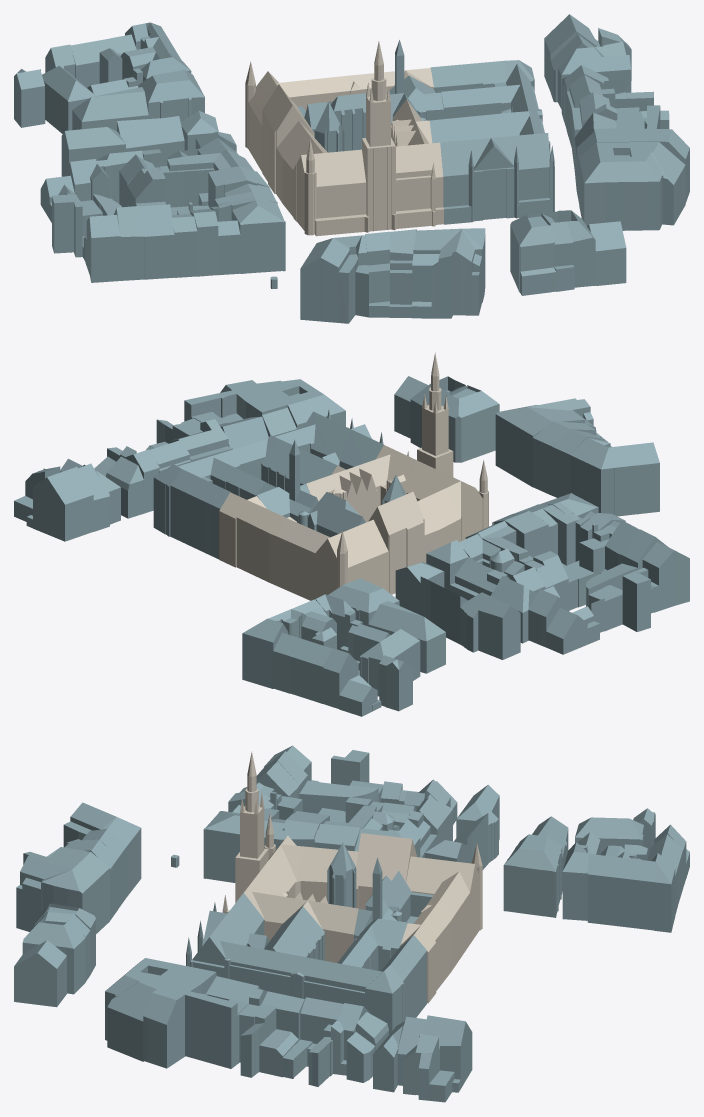
File: muenchner-rathaus-100m.glb
3 views of the same model, one above another, from view 1: azimuth 30°, elevation 25°; view 2: azimuth 150°, elevation 25°; view 3: azimuth 270°, elevation 25° (orthographic). The views are drawn at different scales.
Parts seen in each view (by area): view 1: primary_DEBY_LOD2_4957695, neighbor_DEBY_LOD2_4957703, neighbor_DEBY_LOD2_4957959, neighbor_DEBY_LOD2_4957694, neighbor_DEBY_LOD2_4957691, neighbor_DEBY_LOD2_4957698, neighbor_DEBY_LOD2_4956886, neighbor_DEBY_LOD2_4957654, neighbor_DEBY_LOD2_4956894, neighbor_DEBY_LOD2_4956909, neighbor_DEBY_LOD2_4956908, neighbor_DEBY_LOD2_4956881 (+41 smaller); view 2: primary_DEBY_LOD2_4957695, neighbor_DEBY_LOD2_4957703, neighbor_DEBY_LOD2_4957691, neighbor_DEBY_LOD2_4957694, neighbor_DEBY_LOD2_4957943, neighbor_DEBY_LOD2_4957698, neighbor_DEBY_LOD2_4956901, neighbor_DEBY_LOD2_4957654, neighbor_DEBY_LOD2_4956908, neighbor_DEBY_LOD2_4956874, neighbor_DEBY_LOD2_107805678, neighbor_DEBY_LOD2_4957701 (+45 smaller); view 3: primary_DEBY_LOD2_4957695, neighbor_DEBY_LOD2_4957703, neighbor_DEBY_LOD2_4957694, neighbor_DEBY_LOD2_4956914, neighbor_DEBY_LOD2_4956909, neighbor_DEBY_LOD2_4957959, neighbor_DEBY_LOD2_4957960, neighbor_DEBY_LOD2_4957698, neighbor_DEBY_LOD2_4957958, neighbor_DEBY_LOD2_4957943, neighbor_DEBY_LOD2_4957651, neighbor_DEBY_LOD2_4957691 (+41 smaller).
Boxes of the visible parts, x1,y1,x2,y2 form: primary_DEBY_LOD2_4957695: [245, 41, 443, 236]; neighbor_DEBY_LOD2_4957703: [430, 60, 554, 224]; neighbor_DEBY_LOD2_4957959: [579, 142, 685, 230]; neighbor_DEBY_LOD2_4957694: [411, 228, 485, 318]; neighbor_DEBY_LOD2_4957691: [300, 235, 368, 323]; neighbor_DEBY_LOD2_4957698: [304, 40, 443, 150]; neighbor_DEBY_LOD2_4956886: [218, 197, 285, 273]; neighbor_DEBY_LOD2_4957654: [510, 213, 556, 295]; neighbor_DEBY_LOD2_4956894: [159, 149, 254, 207]; neighbor_DEBY_LOD2_4956909: [138, 69, 204, 121]; neighbor_DEBY_LOD2_4956908: [72, 87, 148, 131]; neighbor_DEBY_LOD2_4956881: [140, 204, 174, 279]; primary_DEBY_LOD2_4957695: [219, 352, 488, 600]; neighbor_DEBY_LOD2_4957703: [153, 409, 383, 559]; neighbor_DEBY_LOD2_4957691: [570, 437, 659, 516]; neighbor_DEBY_LOD2_4957694: [495, 398, 595, 487]; neighbor_DEBY_LOD2_4957943: [32, 466, 93, 541]; neighbor_DEBY_LOD2_4957698: [253, 440, 365, 537]; neighbor_DEBY_LOD2_4956901: [460, 592, 520, 659]; neighbor_DEBY_LOD2_4957654: [442, 385, 499, 462]; neighbor_DEBY_LOD2_4956908: [368, 601, 445, 673]; neighbor_DEBY_LOD2_4956874: [642, 542, 689, 612]; neighbor_DEBY_LOD2_107805678: [492, 511, 594, 610]; neighbor_DEBY_LOD2_4957701: [261, 438, 339, 492]; primary_DEBY_LOD2_4957695: [222, 751, 482, 1003]; neighbor_DEBY_LOD2_4957703: [186, 893, 426, 1034]; neighbor_DEBY_LOD2_4957694: [16, 847, 109, 933]; neighbor_DEBY_LOD2_4956914: [587, 844, 655, 930]; neighbor_DEBY_LOD2_4956909: [503, 834, 562, 917]; neighbor_DEBY_LOD2_4957959: [105, 958, 186, 1061]; neighbor_DEBY_LOD2_4957960: [185, 991, 237, 1068]; neighbor_DEBY_LOD2_4957698: [354, 857, 411, 971]; neighbor_DEBY_LOD2_4957958: [143, 987, 184, 1068]; neighbor_DEBY_LOD2_4957943: [415, 1015, 472, 1095]; neighbor_DEBY_LOD2_4957651: [14, 940, 66, 1007]; neighbor_DEBY_LOD2_4957691: [63, 802, 141, 897].
Bounding box in the file's own units: 277 × 80.3 × 262.
